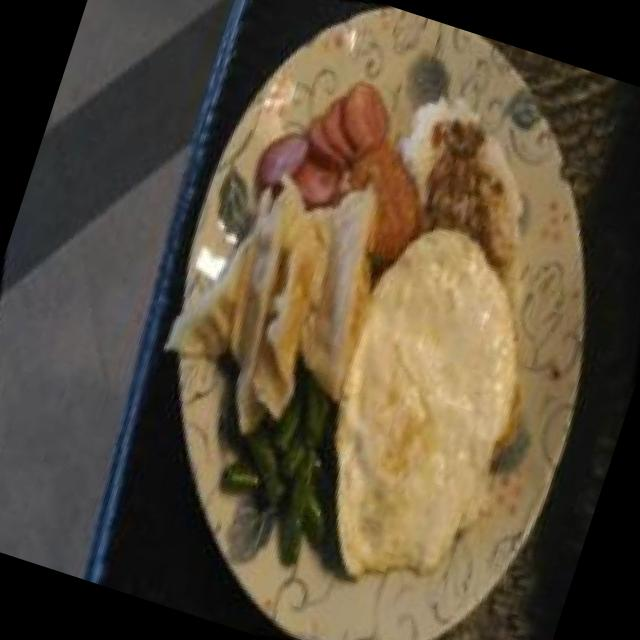chinese_sausage: (232, 46, 416, 229)
fried_dumplings: (115, 131, 428, 467)
fried_eggs: (254, 185, 600, 628)
rice: (367, 79, 555, 282)
